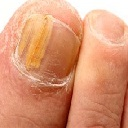Nail Fungal Infection: (14, 12, 57, 66)
